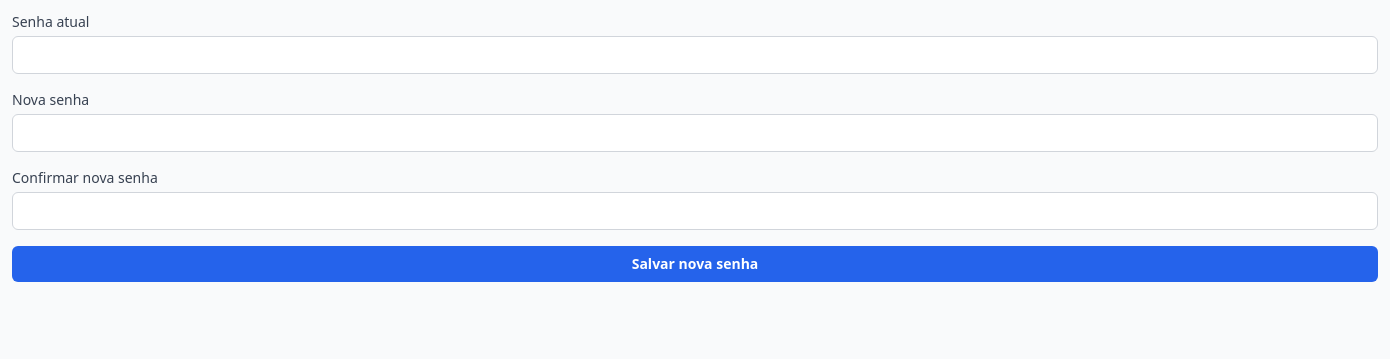
ChangePasswordForm › exige os três campos
The image size is (1390, 359).
What coordinates should you click on to do the following:
click the button
I would click on:
 (695, 264)
Its box is [12,246,1378,282].
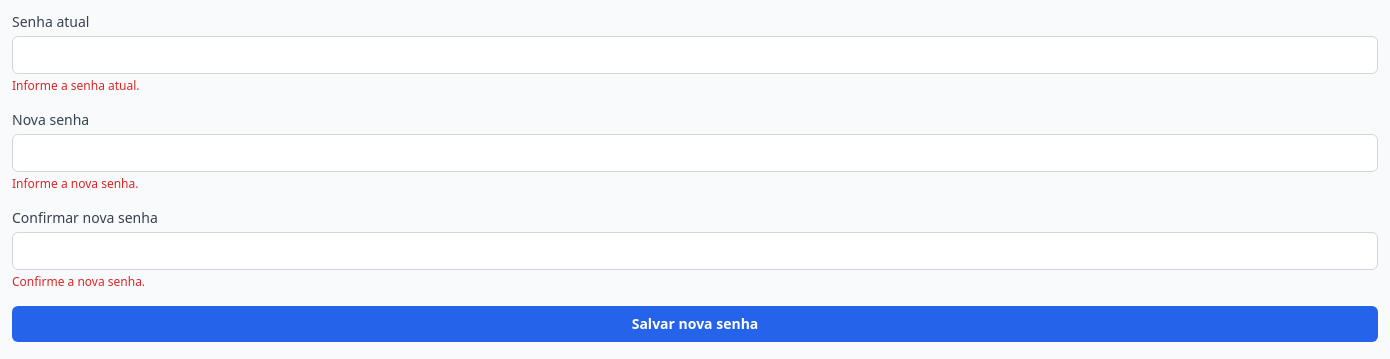
Now the text "Informe a senha atual." is shown, box [12,77,140,94]
Now the text "Informe a nova senha." is shown, box [12,175,138,192]
Now the text "Confirme a nova senha." is shown, box [12,273,145,290]
